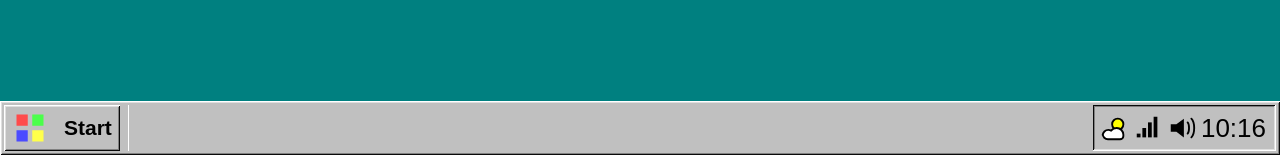
Test: Taskbar Weather Caching › fetches new data if cache is expired
Click the button with test id "sys-tray-weather".
click(1114, 128)  # box [1099,104,1129,152]
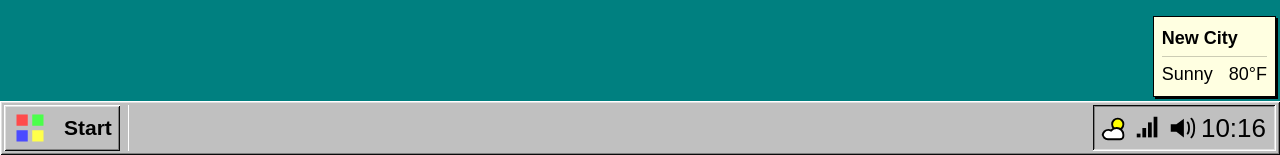
Now the text "New City" is shown, box [1162,25,1267,57]
